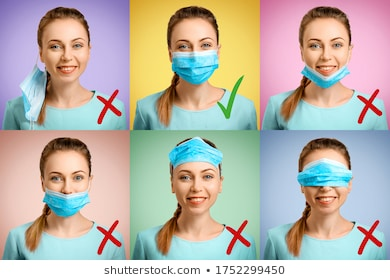mask_weared_incorrect: (170, 147, 224, 216), (301, 157, 354, 214), (305, 31, 350, 85), (44, 166, 89, 216)
with_mask: (174, 33, 216, 84)
without_mask: (46, 33, 86, 82)
